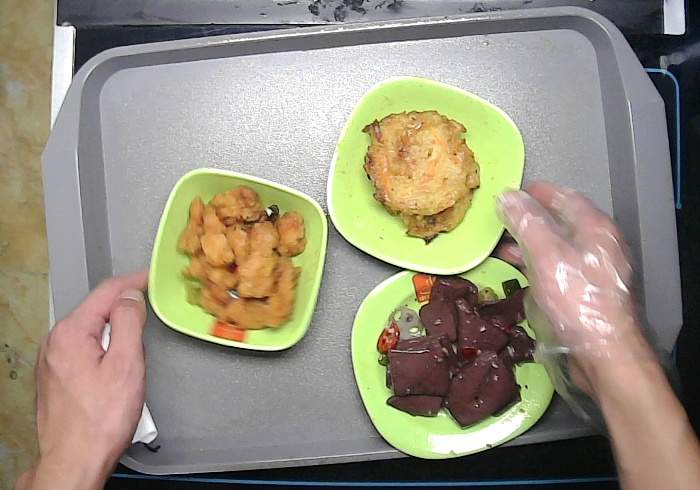SHKJ-Lv_Se_Cai_Die: (325, 74, 526, 275)
SHKJ-Lv_Se_Si_Fang_Cai_Die: (351, 251, 558, 460)
SHKJ-Lv_Se_Xiao_Fang_Die: (144, 168, 327, 353)
